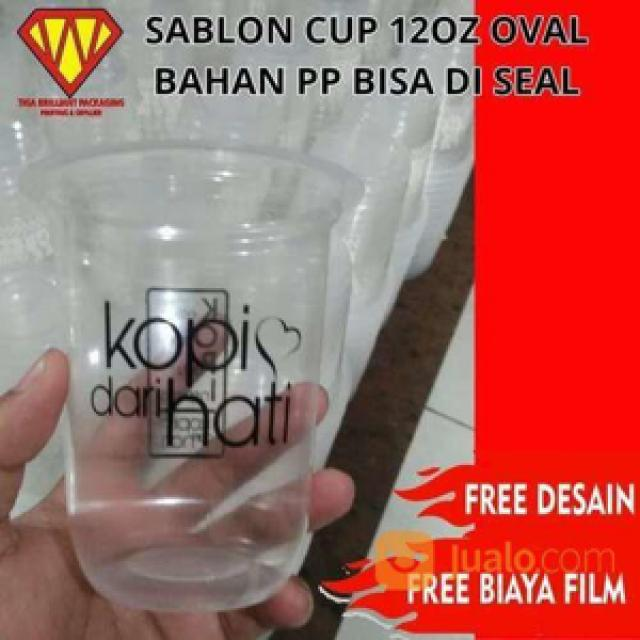plastic cup: (13, 132, 380, 621)
